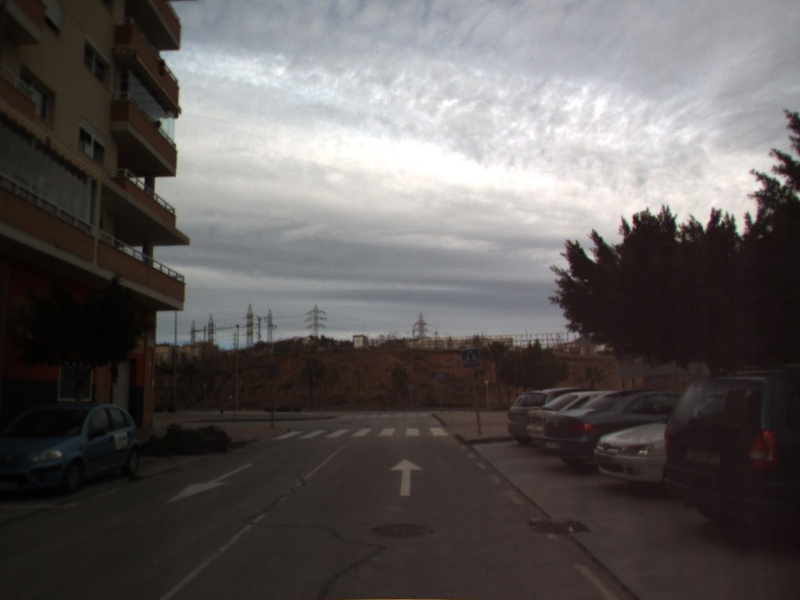STRAIGHT: (388, 456, 426, 498)
